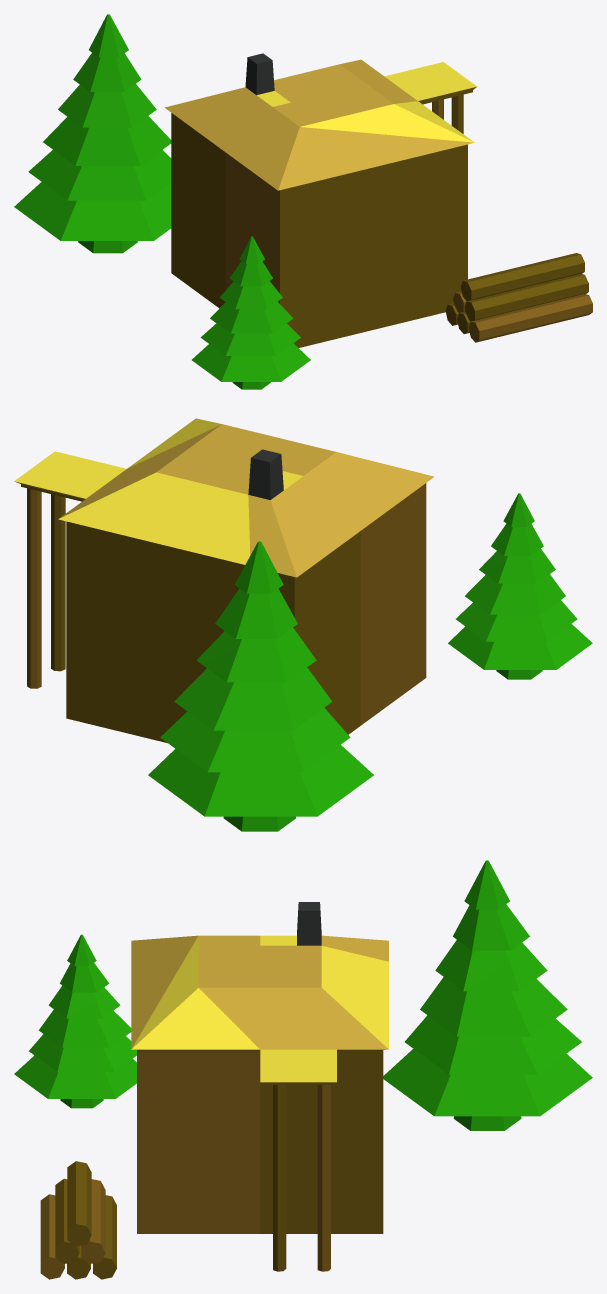
The model's file is lumber1.glb.
The picture shows the model from 3 angles, top to bottom: view 1: azimuth 30°, elevation 25°; view 2: azimuth 150°, elevation 25°; view 3: azimuth 270°, elevation 25°; orthographic projection. The views are drawn at different scales.
Parts seen in each view (by area): view 1: Cylinder; view 2: Cylinder; view 3: Cylinder.
Boxes of the visible parts, x1=… form: Cylinder: x1=14, y1=14, x2=592, y2=389; Cylinder: x1=14, y1=418, x2=592, y2=831; Cylinder: x1=14, y1=860, x2=592, y2=1279.
Size of the model in its own units: 15.14 by 9.1 by 17.98.
